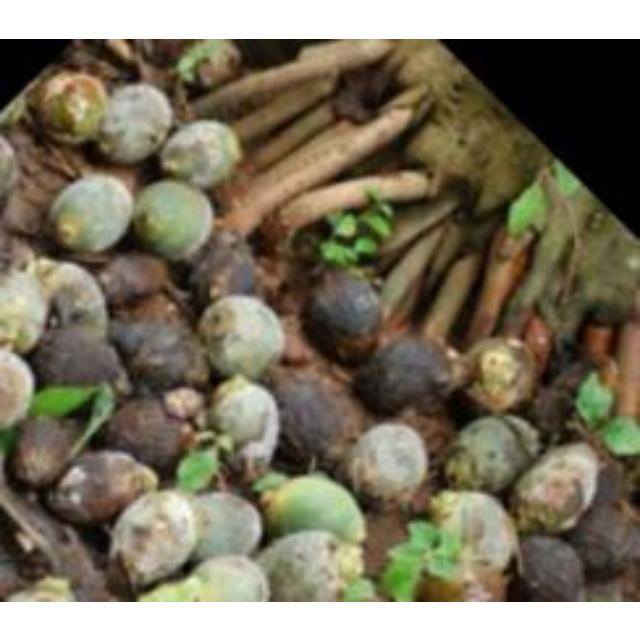damaged: (193, 51, 351, 119), (108, 488, 200, 590), (236, 93, 348, 173), (268, 370, 358, 468), (354, 334, 458, 418), (380, 511, 476, 602), (49, 448, 158, 528), (509, 440, 598, 532), (205, 374, 282, 476), (260, 473, 368, 545), (342, 420, 430, 508), (442, 413, 538, 492), (428, 490, 516, 574), (304, 268, 384, 360), (114, 316, 208, 394), (199, 294, 285, 378), (104, 394, 194, 474), (256, 530, 354, 602), (49, 172, 134, 254), (462, 228, 522, 342), (31, 322, 128, 392), (131, 180, 213, 260), (96, 82, 174, 165), (372, 192, 461, 264), (460, 336, 538, 414), (30, 70, 110, 144), (183, 491, 264, 564), (423, 246, 481, 340), (161, 120, 241, 188), (38, 260, 108, 336), (570, 497, 634, 579), (188, 234, 260, 306), (10, 414, 80, 488), (351, 81, 432, 141), (62, 379, 118, 465), (386, 40, 466, 100), (514, 534, 582, 600), (98, 250, 172, 310), (536, 360, 596, 434), (0, 267, 50, 355), (110, 38, 186, 94), (288, 38, 398, 76), (206, 172, 266, 238), (186, 554, 272, 600), (358, 506, 414, 574), (346, 167, 434, 205), (175, 38, 241, 88), (394, 407, 452, 463), (118, 286, 190, 330), (0, 348, 38, 429), (27, 382, 105, 420), (378, 546, 428, 602), (1, 181, 48, 239), (506, 177, 548, 237), (32, 134, 84, 182), (464, 183, 518, 229), (86, 158, 142, 202), (8, 538, 56, 584), (430, 489, 480, 531), (542, 336, 582, 384), (520, 313, 552, 371), (61, 40, 115, 74), (5, 574, 74, 600), (598, 414, 640, 456), (4, 124, 44, 168), (101, 555, 139, 601), (586, 293, 634, 329), (108, 317, 150, 357), (76, 570, 122, 602), (0, 86, 32, 132), (550, 158, 582, 202), (0, 131, 20, 199), (582, 321, 614, 362), (30, 254, 66, 290), (358, 208, 394, 244), (3, 236, 37, 274), (317, 240, 361, 268), (101, 38, 139, 68), (594, 353, 622, 393), (332, 212, 361, 240), (12, 526, 38, 556), (620, 248, 640, 278), (586, 208, 608, 232)
